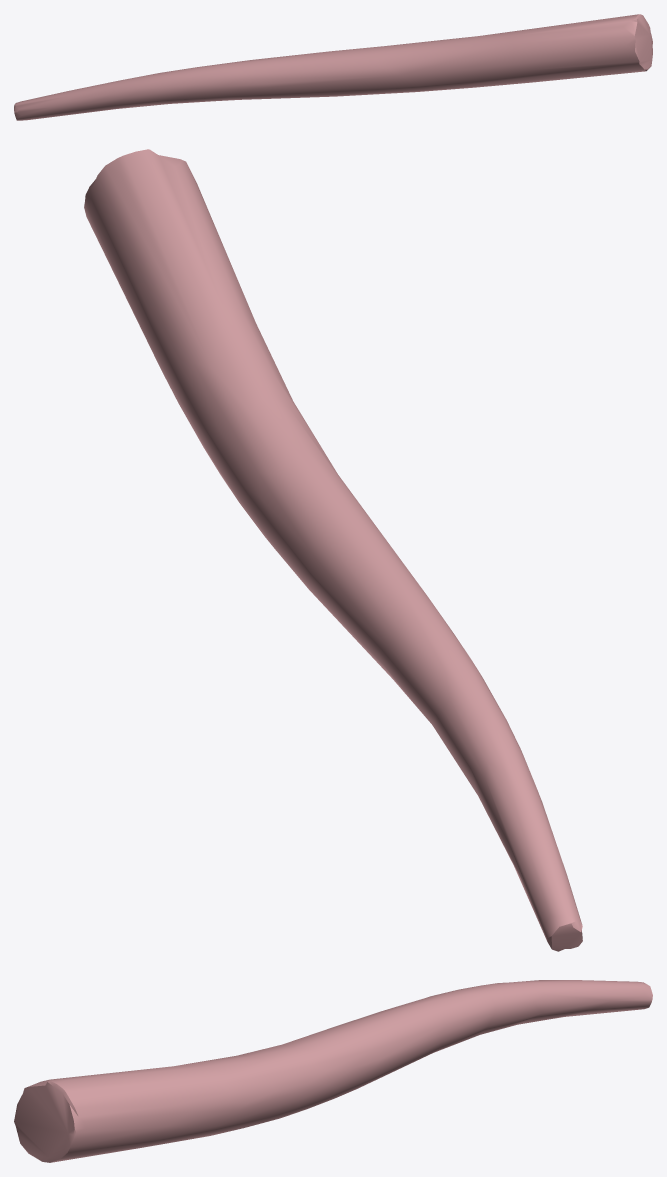
File: fma68216_fj6574.glb
3 renders of one model, top to bottom at view 1: azimuth 30°, elevation 25°; view 2: azimuth 150°, elevation 25°; view 3: azimuth 270°, elevation 25°, orthographic. The views are drawn at different scales.
Visible parts, largest first — view 1: FMA68216_FJ6574; view 2: FMA68216_FJ6574; view 3: FMA68216_FJ6574.
Boxes of the visible parts, bbox=[...] form: FMA68216_FJ6574: bbox=[14, 14, 652, 120]; FMA68216_FJ6574: bbox=[84, 149, 582, 951]; FMA68216_FJ6574: bbox=[14, 980, 652, 1162].
Size of the model in its own units: 0.0665 by 0.0216 by 0.0574.
